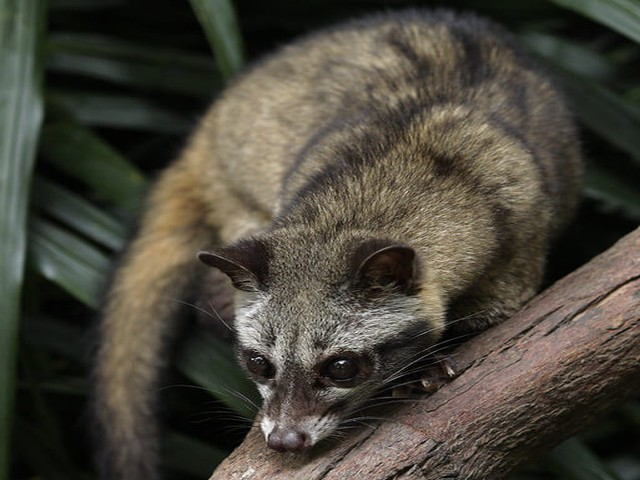civet: (84, 7, 586, 479)
